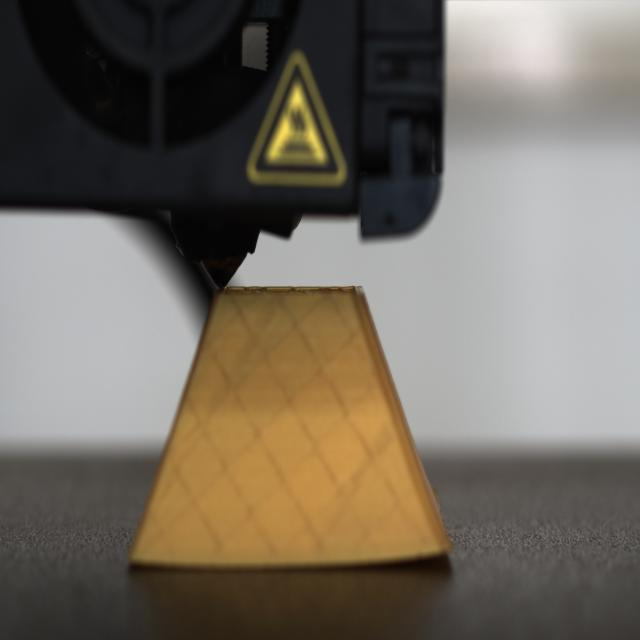Warping: (383, 541, 454, 573)
Without deffect: (108, 266, 477, 600)
